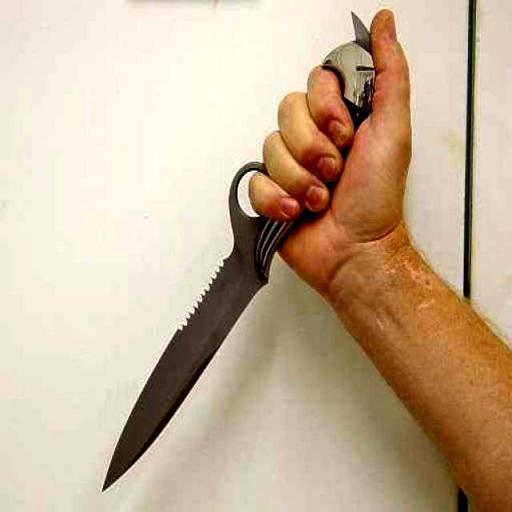knife: (100, 6, 386, 498)
